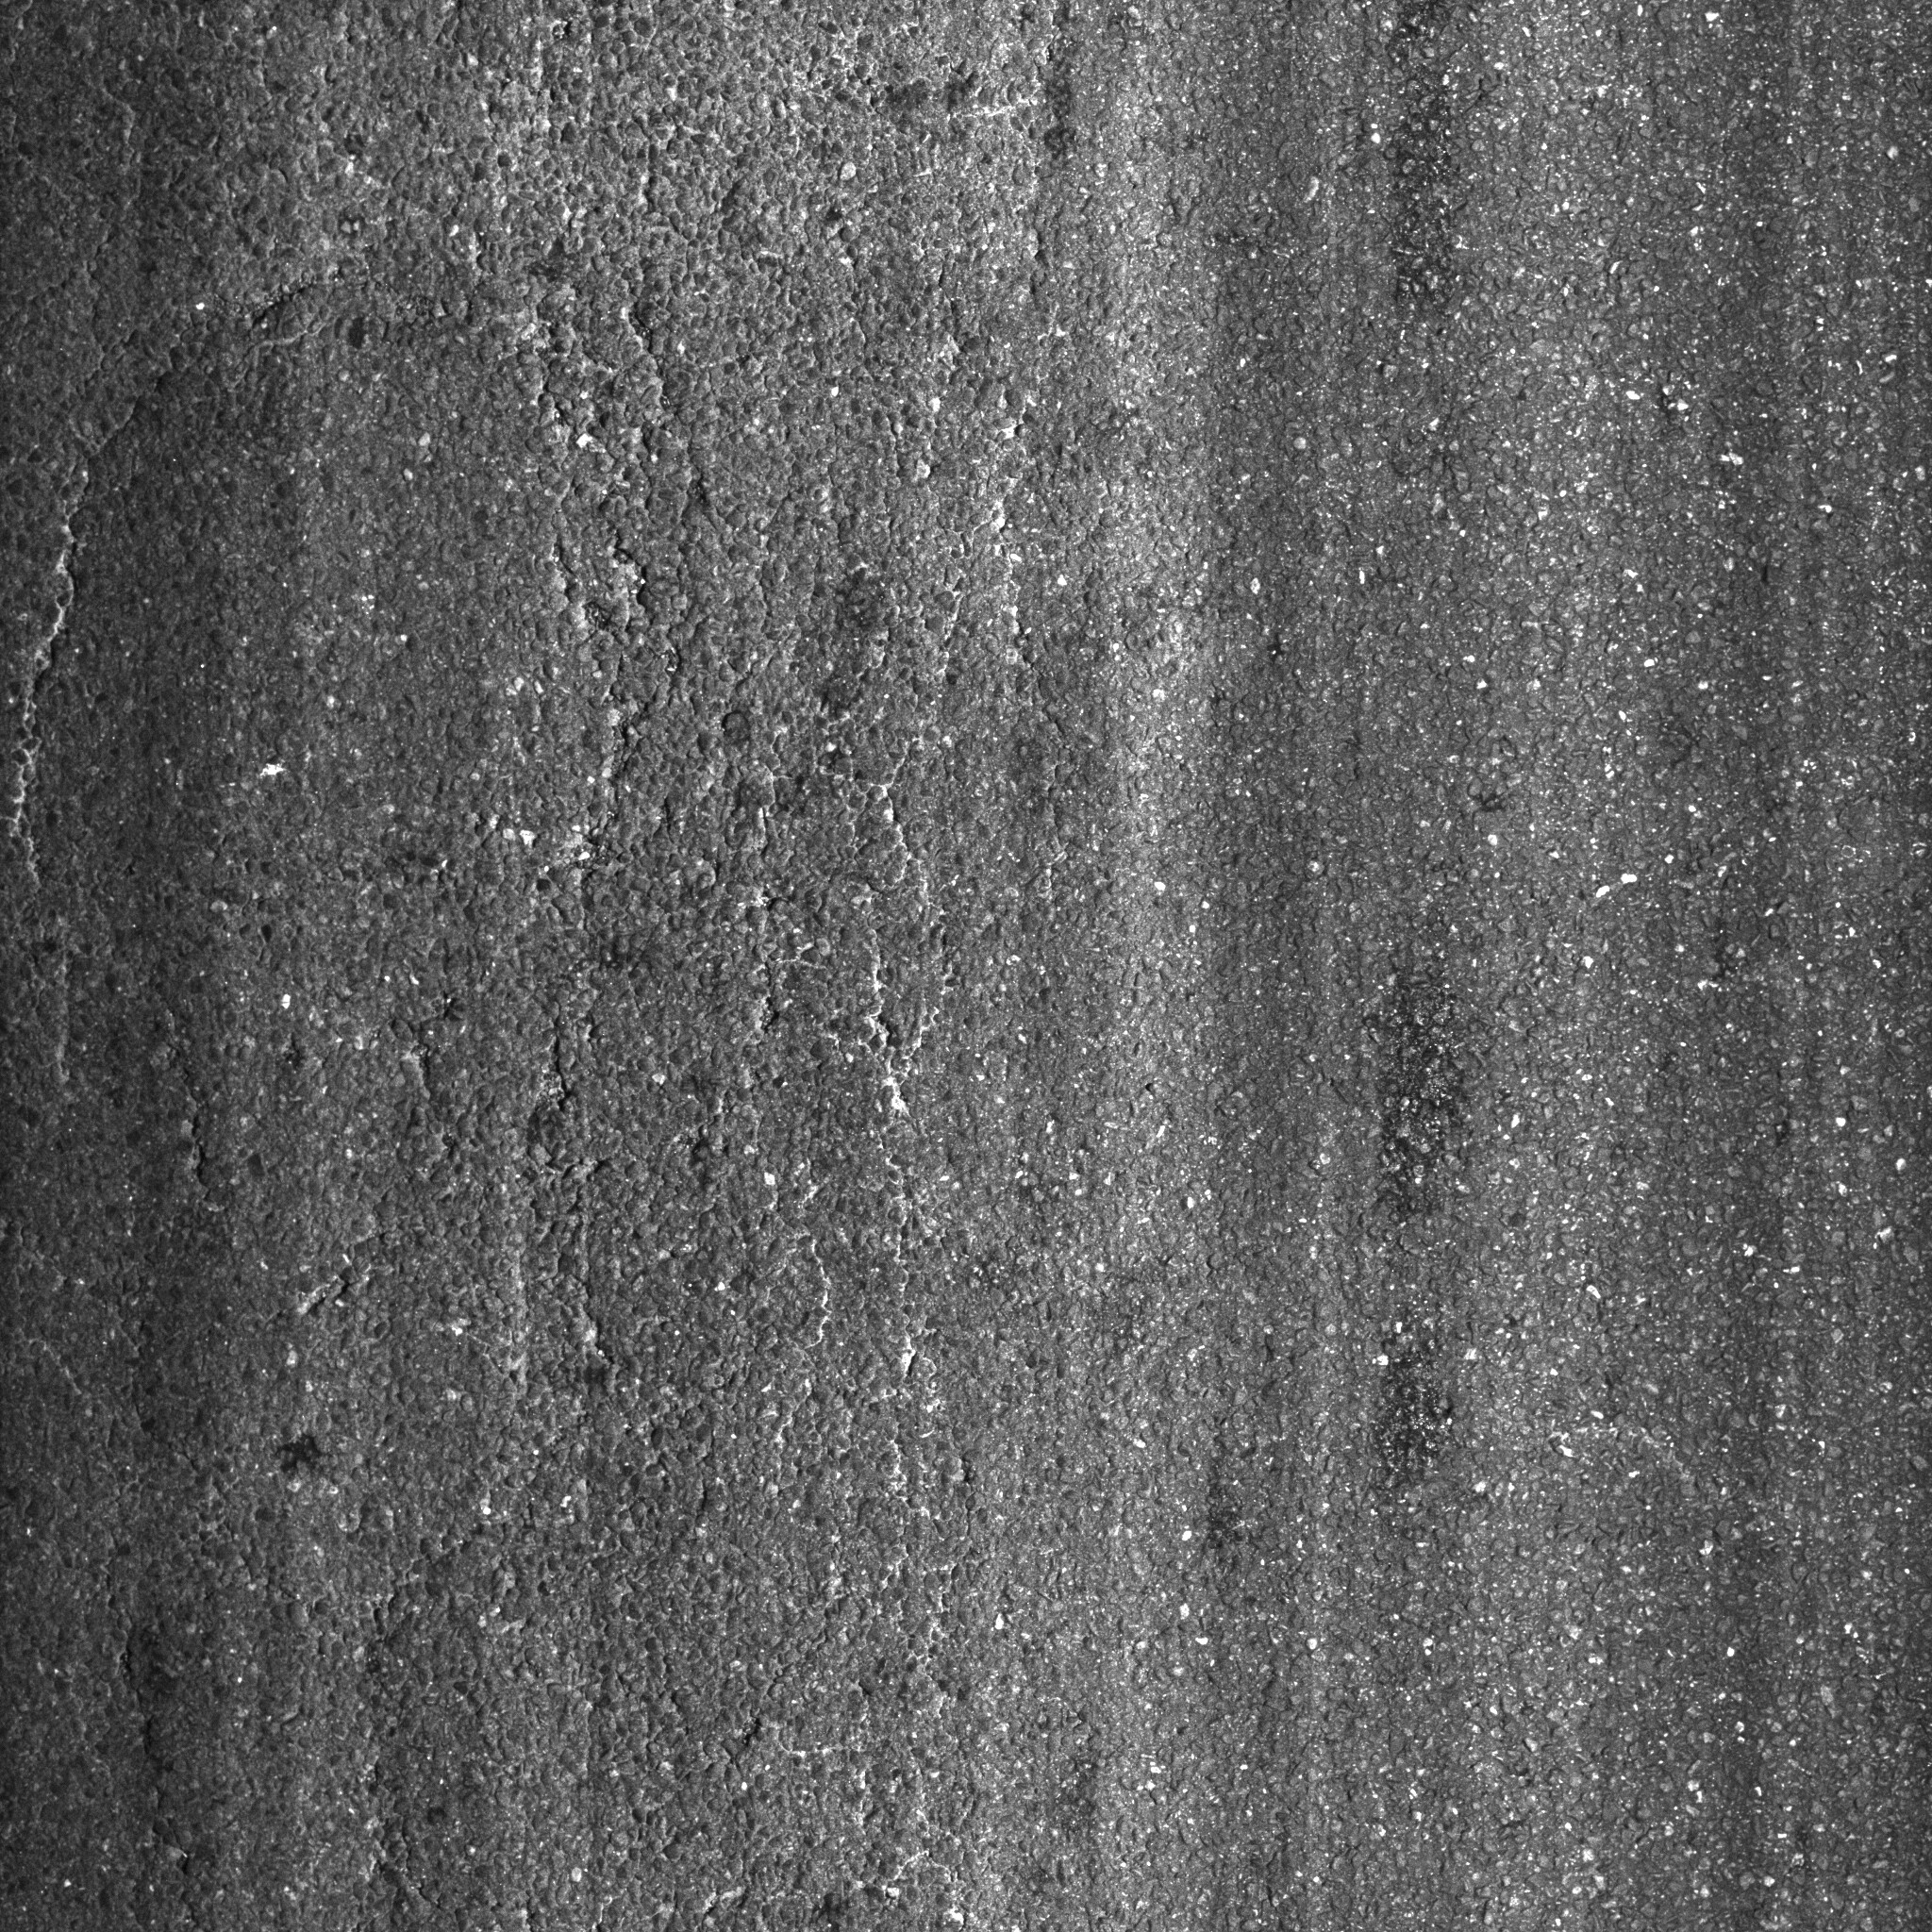alligator: (2, 18, 1113, 1914)
